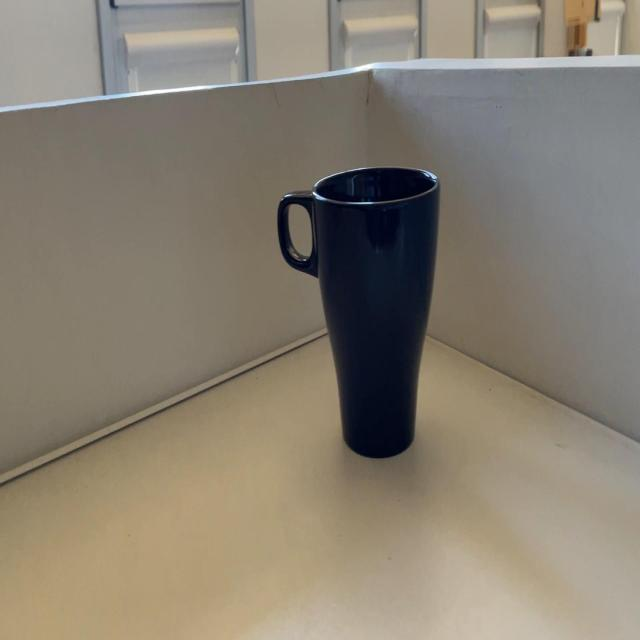cup: (286, 160, 445, 462)
